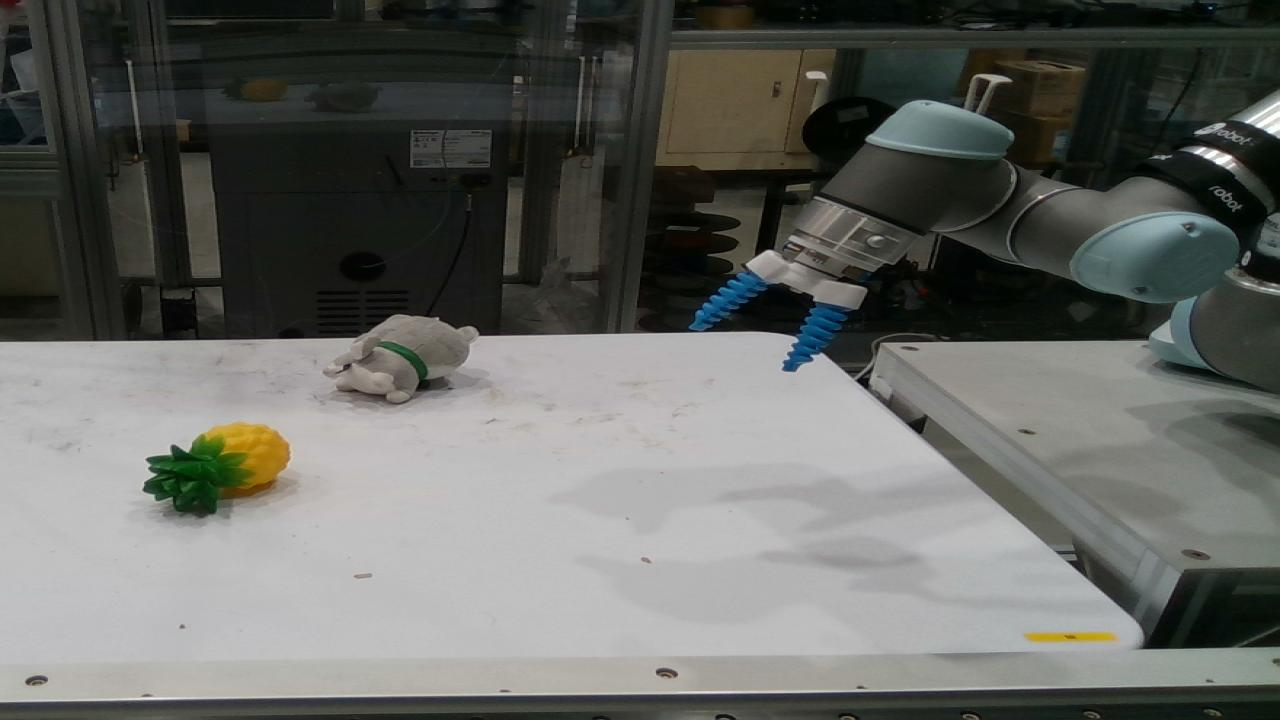UR5: (744, 101, 1278, 390)
gripper_left: (694, 274, 762, 331)
gripper_right: (786, 303, 844, 371)
target: (324, 316, 476, 403), (146, 424, 286, 514)
